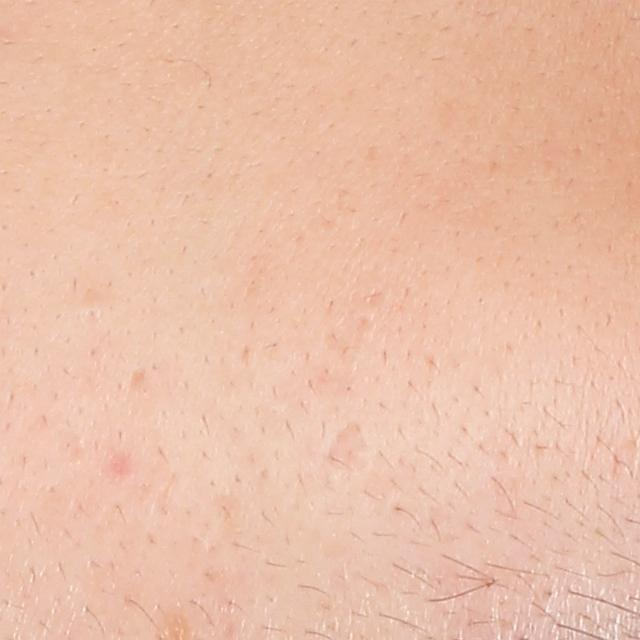atrophic_scar: (319, 423, 378, 477), (104, 450, 142, 486)
